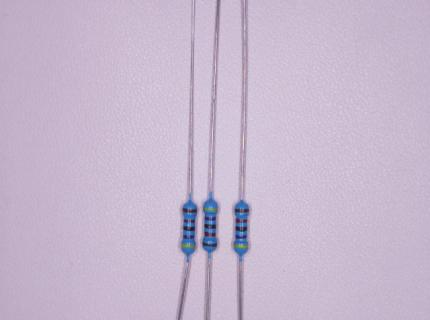Black band: (204, 224, 216, 229), (183, 226, 195, 231), (183, 235, 194, 239)
Brown band: (182, 208, 197, 213), (202, 242, 217, 247), (234, 209, 249, 213), (235, 227, 247, 231)
Red band: (204, 232, 216, 237), (236, 218, 247, 223), (183, 219, 195, 223)
Violet band: (204, 216, 216, 221), (235, 235, 247, 239)
Yellow band: (203, 207, 218, 212), (181, 244, 196, 249), (234, 244, 249, 249)
